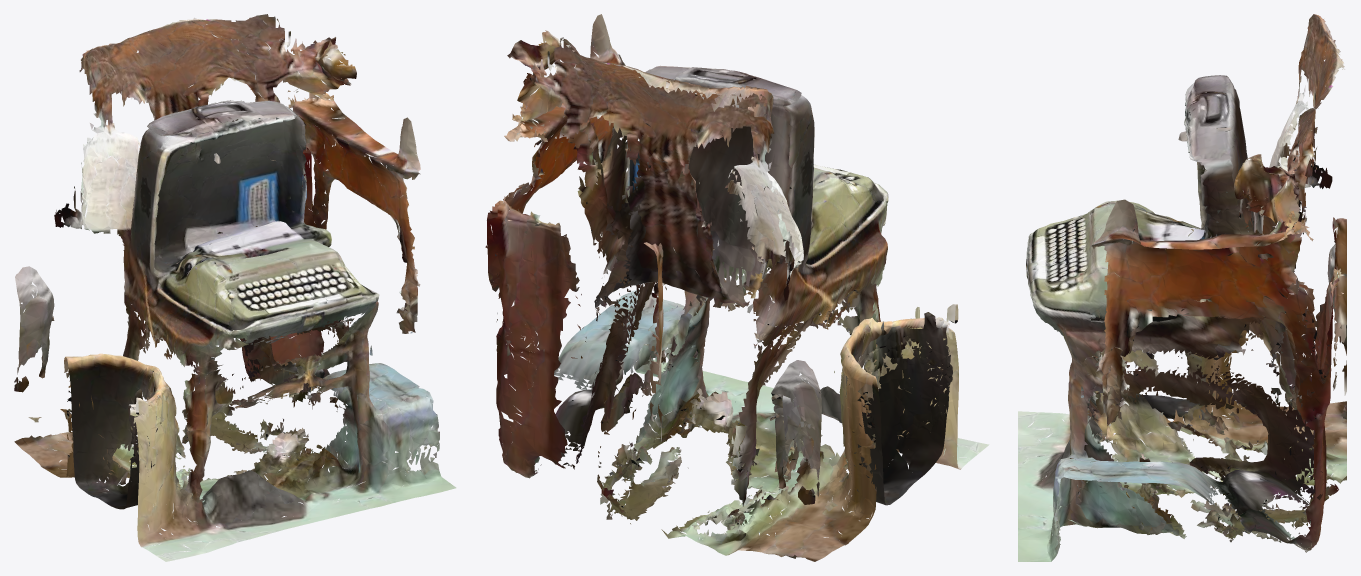
File: antique_typewriter.lod2.glb
3 views of the same model, side by side, from view 1: azimuth 30°, elevation 25°; view 2: azimuth 150°, elevation 25°; view 3: azimuth 270°, elevation 25° (orthographic). The views are drawn at different scales.
Parts seen in each view (by area): view 1: Object_3, Object_2, Object_4; view 2: Object_3, Object_2, Object_4; view 3: Object_3, Object_2, Object_4.
Part boxes in pixels (box(x1,y1,x2,y2)): Object_3: box(17, 17, 437, 554); Object_2: box(14, 14, 456, 561); Object_4: box(20, 16, 426, 550); Object_3: box(491, 59, 973, 557); Object_2: box(485, 14, 989, 561); Object_4: box(491, 29, 958, 550); Object_3: box(1022, 14, 1346, 552); Object_2: box(1018, 31, 1346, 561); Object_4: box(1027, 39, 1342, 552).
Size of the model in its own units: 0.722 by 1.01 by 0.652.
1 material, 1 textured.
